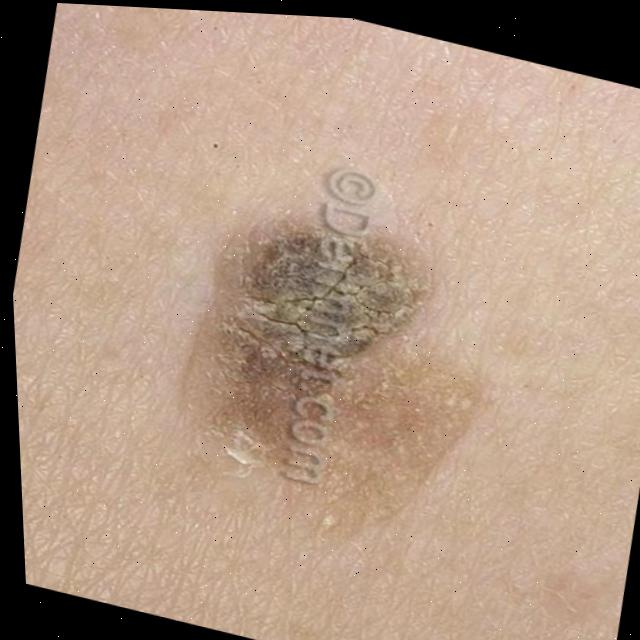Eczema: (153, 181, 505, 529)
